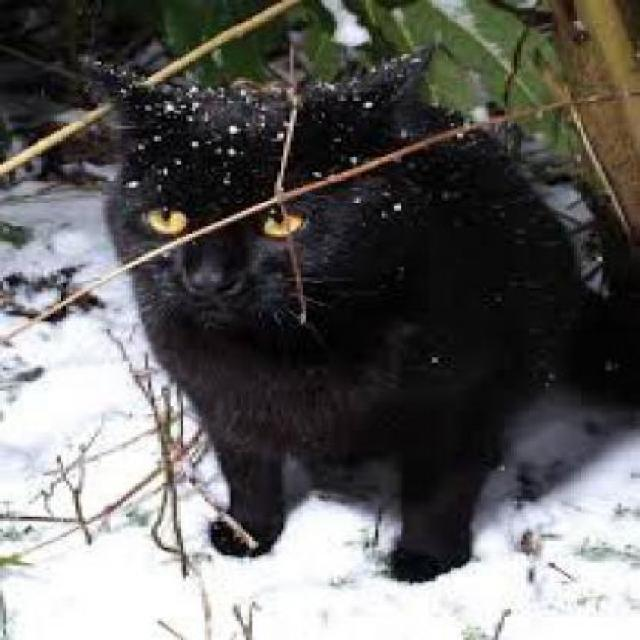animals: (129, 62, 589, 576)
